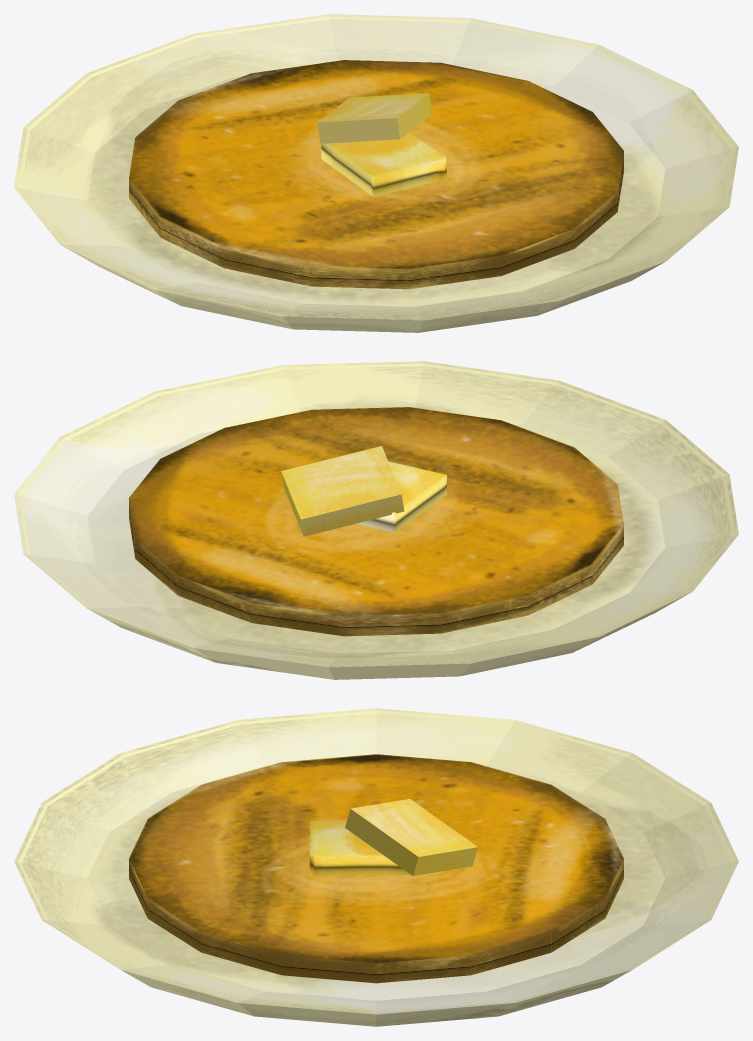
The model's file is Arepa_de_chocolo.glb.
3 views of the same model, one above another, from view 1: azimuth 30°, elevation 25°; view 2: azimuth 150°, elevation 25°; view 3: azimuth 270°, elevation 25° (orthographic).
Visible parts, largest first — view 1: Cylinder.002, Cylinder, Cube, Cube.001; view 2: Cylinder.002, Cylinder, Cube.001, Cube; view 3: Cylinder.002, Cylinder, Cube.001, Cube.
Part boxes in pixels (<box>): Cylinder.002: <box>14,14,738,332</box>; Cylinder: <box>129,60,623,289</box>; Cube: <box>321,132,446,197</box>; Cube.001: <box>317,93,431,143</box>; Cylinder.002: <box>14,361,738,679</box>; Cylinder: <box>129,407,623,636</box>; Cube.001: <box>281,446,404,536</box>; Cube: <box>357,461,446,532</box>; Cylinder.002: <box>14,708,738,1026</box>; Cylinder: <box>129,754,623,983</box>; Cube.001: <box>345,799,477,875</box>; Cube: <box>309,820,411,876</box>.
Bounding box in the file's own units: 3.37 × 0.4472 × 3.37.
Materials: 4 (4 with a texture image).
